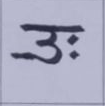anusvara: (69, 35, 77, 44)
